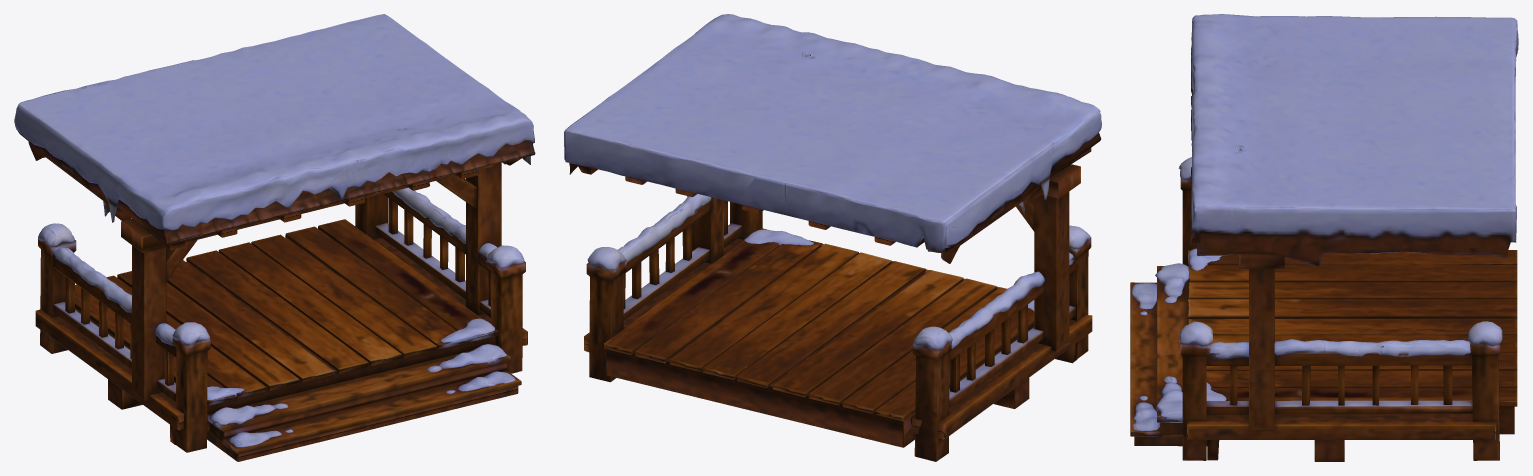
The model's file is HK_porch.glb.
3 renders of one model, left to right at view 1: azimuth 30°, elevation 25°; view 2: azimuth 150°, elevation 25°; view 3: azimuth 270°, elevation 25°, orthographic. The views are drawn at different scales.
Visible parts, largest first — view 1: geometry_0; view 2: geometry_0; view 3: geometry_0.
Part boxes in pixels (box(x1,y1,x2,y2)): geometry_0: box(14, 14, 535, 461); geometry_0: box(564, 14, 1101, 461); geometry_0: box(1130, 14, 1518, 461).
Size of the model in its own units: 0.958 by 0.6143 by 0.8018.
Materials: 1 (1 with a texture image).
